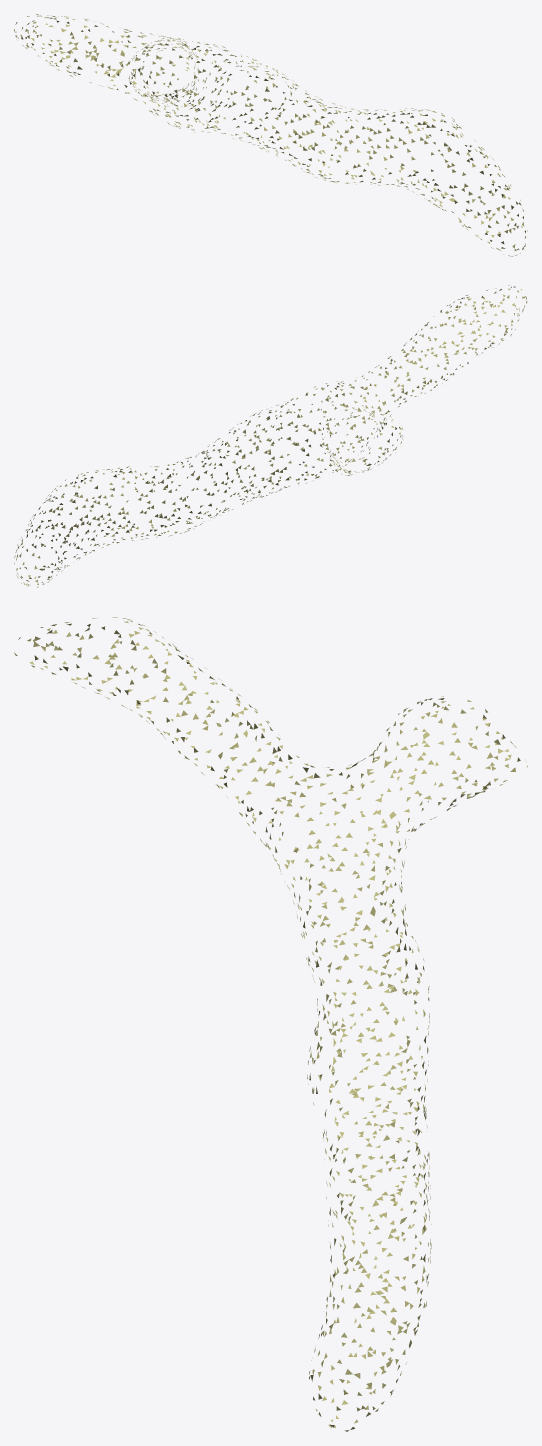
The model's file is morph_009.glb.
The picture shows the model from 3 angles, top to bottom: view 1: azimuth 30°, elevation 25°; view 2: azimuth 150°, elevation 25°; view 3: azimuth 270°, elevation 25°; orthographic projection. The views are drawn at different scales.
Size of the model in its own units: 83.04 by 62.51 by 56.35.
